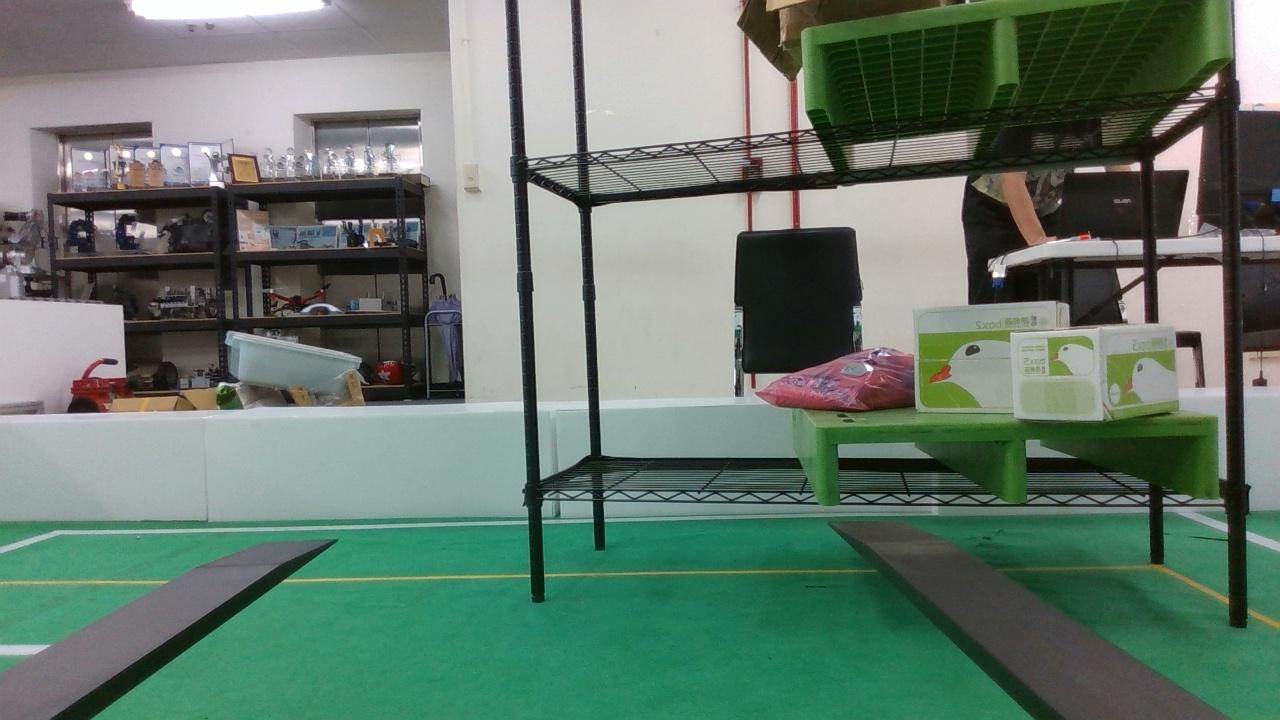Pallet: (789, 0, 1234, 116), (810, 417, 1221, 513)
